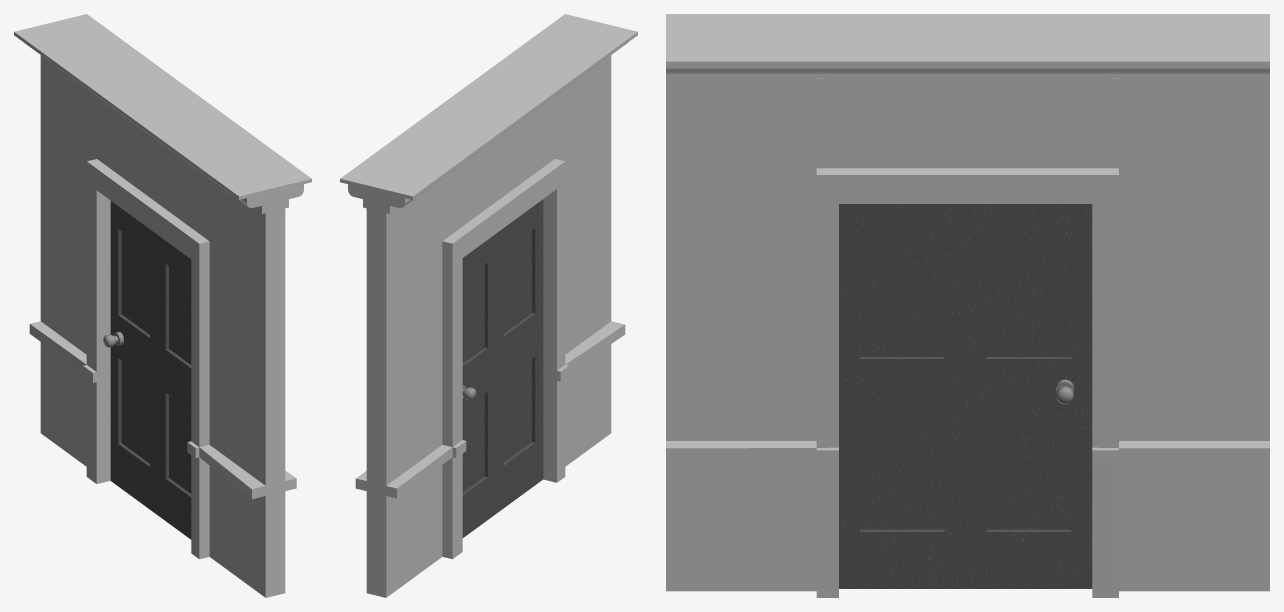
The model's file is DoorWithinHotelFrame2.fbx.
3 views of the same model, side by side, from view 1: azimuth 30°, elevation 25°; view 2: azimuth 150°, elevation 25°; view 3: azimuth 270°, elevation 25° (orthographic). The views are drawn at different scales.
Parts seen in each view (by area): view 1: DoubleUpHotelDoorway, Door, FancyPart7, FancyPart6; view 2: DoubleUpHotelDoorway, Door, FancyPart7, FancyPart6; view 3: DoubleUpHotelDoorway, Door, FancyPart6, FancyPart7.
Boxes of the visible parts, <box> form: DoubleUpHotelDoorway: <box>29,20,296,597</box>; Door: <box>110,201,191,539</box>; FancyPart7: <box>14,25,265,213</box>; FancyPart6: <box>60,14,311,208</box>; DoubleUpHotelDoorway: <box>355,20,625,597</box>; Door: <box>462,199,543,537</box>; FancyPart7: <box>386,25,637,213</box>; FancyPart6: <box>340,14,591,208</box>; DoubleUpHotelDoorway: <box>666,31,1269,597</box>; Door: <box>839,204,1092,588</box>; FancyPart6: <box>666,44,1269,79</box>; FancyPart7: <box>666,14,1269,31</box>.
Size of the model in its own units: 0.7473 by 4 by 4.
